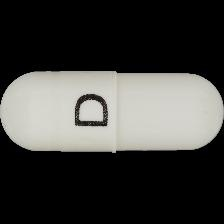16714-661: (0, 0, 224, 224)
